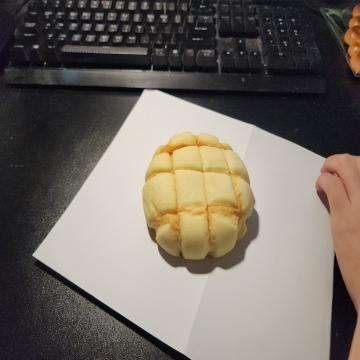melon_bread: (142, 132, 256, 261)
